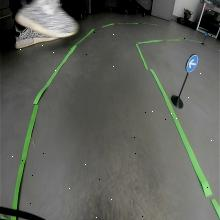left: (186, 54, 198, 73)
